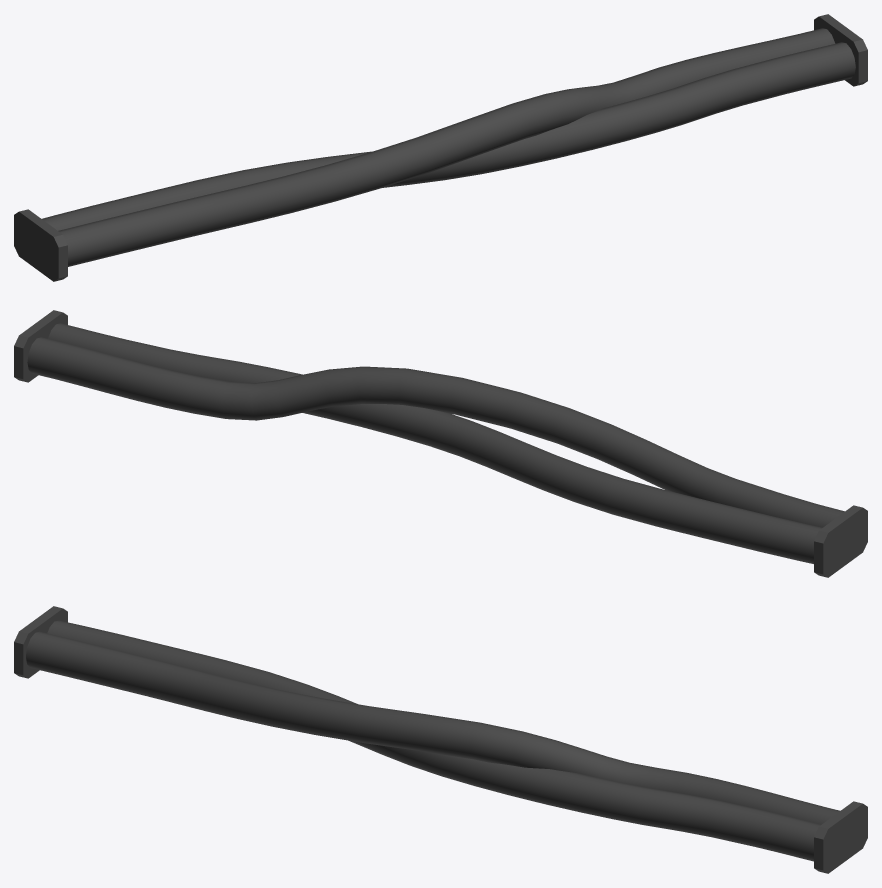
The model's file is Pfb_Soda_Pipe.fbx.
3 renders of one model, top to bottom at view 1: azimuth 30°, elevation 25°; view 2: azimuth 150°, elevation 25°; view 3: azimuth 330°, elevation 25°, orthographic.
Visible parts, largest first — view 1: MAT_Soda_Pipe 1; view 2: MAT_Soda_Pipe 1; view 3: MAT_Soda_Pipe 1.
Part boxes in pixels (x1,y1,x2,y2): MAT_Soda_Pipe 1: (14, 14, 867, 281); MAT_Soda_Pipe 1: (14, 310, 867, 577); MAT_Soda_Pipe 1: (14, 606, 867, 873).
Bounding box in the file's own units: 7.48 × 0.5946 × 0.9544.
Materials: 1 (1 with a texture image).
